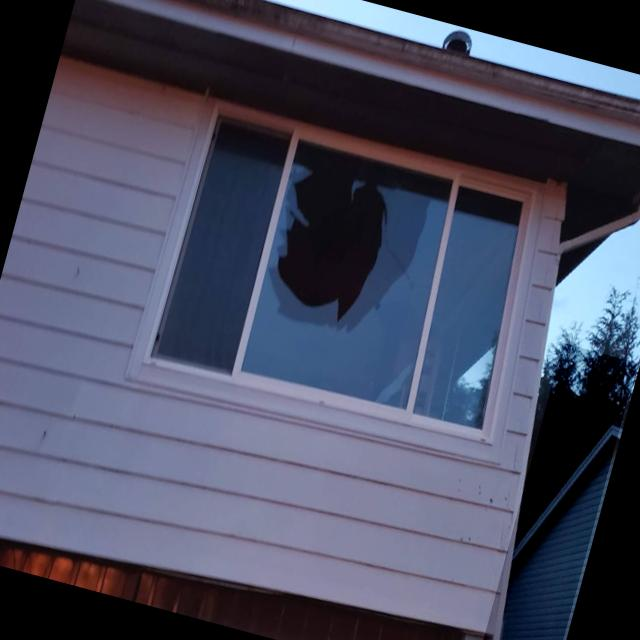House: (0, 0, 640, 640), (470, 342, 637, 640)
